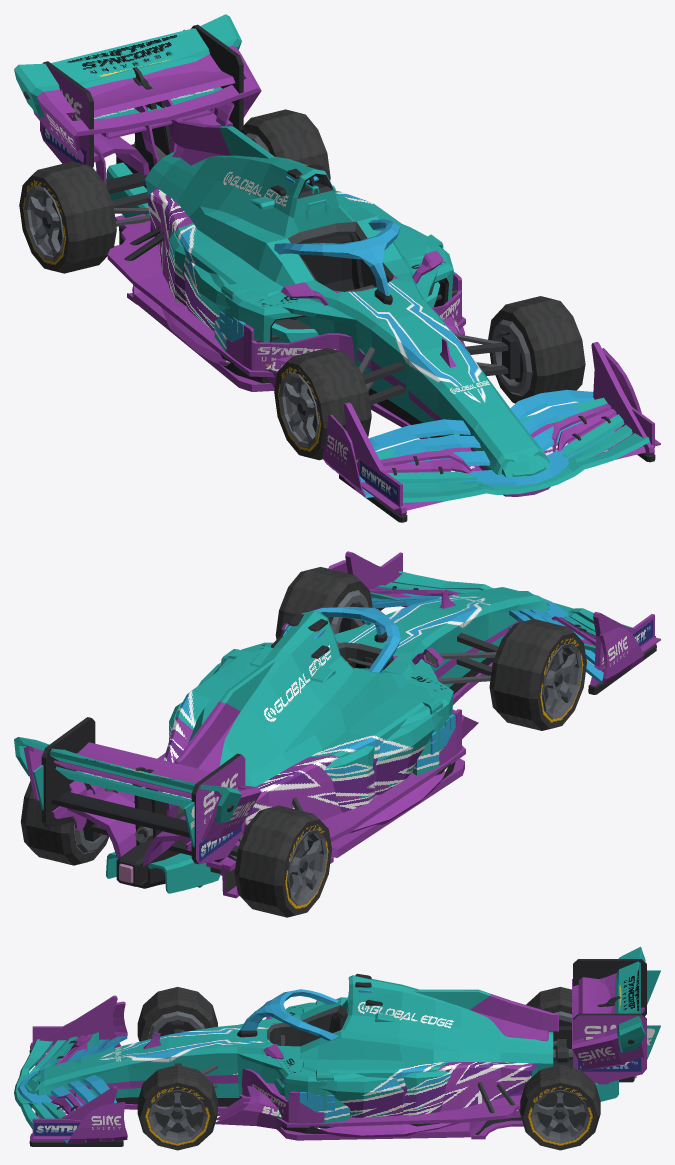
The model's file is redline_pro_openwheeler.glb.
3 renders of one model, top to bottom at view 1: azimuth 30°, elevation 25°; view 2: azimuth 150°, elevation 25°; view 3: azimuth 270°, elevation 25°, orthographic. The views are drawn at different scales.
Parts seen in each view (by area): view 1: Body, V_Front_Bumper_01, V_Front_Bumper_02, V_Side_Skirts_02, V_Spoiler_01, V_Air_Box_03, V_Spoiler_03, V_Front_Bumper_03, Wheel_RR_Stock, Wheel_FR_Stock, Wheel_FL_Stock, V_Side_Skirts_03 (+6 smaller); view 2: V_Side_Skirts_02, Body, V_Spoiler_03, V_Air_Box_03, Wheel_RR_Stock, Wheel_FR_Stock, V_Side_Skirts_03, V_Front_Bumper_01, V_Front_Bumper_02, V_Spoiler_01, V_Side_Skirts_01, V_Front_Bumper_03 (+7 smaller); view 3: V_Side_Skirts_02, Body, V_Air_Box_03, V_Front_Bumper_01, V_Front_Bumper_02, V_Side_Skirts_01, V_Side_Skirts_03, Wheel_FL_Stock, Wheel_RL_Stock, V_Front_Bumper_03, V_Spoiler_03, V_Spoiler_01 (+6 smaller).
Boxes of the visible parts, x1=… form: Body: x1=112, y1=168, x2=520, y2=405; V_Front_Bumper_01: x1=322, y1=309, x2=641, y2=497; V_Front_Bumper_02: x1=356, y1=298, x2=660, y2=510; V_Side_Skirts_02: x1=107, y1=188, x2=465, y2=377; V_Spoiler_01: x1=14, y1=14, x2=261, y2=174; V_Air_Box_03: x1=152, y1=151, x2=353, y2=237; V_Spoiler_03: x1=40, y1=24, x2=243, y2=171; V_Front_Bumper_03: x1=339, y1=317, x2=655, y2=522; Wheel_RR_Stock: x1=19, y1=161, x2=116, y2=273; Wheel_FR_Stock: x1=274, y1=348, x2=371, y2=460; Wheel_FL_Stock: x1=488, y1=296, x2=585, y2=403; V_Side_Skirts_03: x1=114, y1=214, x2=464, y2=391; V_Side_Skirts_02: x1=117, y1=649, x2=465, y2=845; Body: x1=83, y1=605, x2=498, y2=860; V_Spoiler_03: x1=41, y1=717, x2=245, y2=864; V_Air_Box_03: x1=212, y1=611, x2=353, y2=777; Wheel_RR_Stock: x1=234, y1=805, x2=331, y2=917; Wheel_FR_Stock: x1=489, y1=619, x2=586, y2=730; V_Side_Skirts_03: x1=169, y1=642, x2=464, y2=898; V_Front_Bumper_01: x1=328, y1=560, x2=644, y2=684; V_Front_Bumper_02: x1=361, y1=552, x2=660, y2=652; V_Spoiler_01: x1=14, y1=737, x2=261, y2=866; V_Side_Skirts_01: x1=198, y1=644, x2=478, y2=875; V_Front_Bumper_03: x1=345, y1=551, x2=656, y2=704; V_Side_Skirts_02: x1=239, y1=1000, x2=532, y2=1127; Body: x1=171, y1=990, x2=571, y2=1094; V_Air_Box_03: x1=342, y1=975, x2=553, y2=1053; V_Front_Bumper_01: x1=17, y1=1001, x2=238, y2=1143; V_Front_Bumper_02: x1=14, y1=1025, x2=237, y2=1139; V_Side_Skirts_01: x1=215, y1=1006, x2=537, y2=1137; V_Side_Skirts_03: x1=239, y1=1002, x2=523, y2=1140; Wheel_FL_Stock: x1=137, y1=1065, x2=217, y2=1150; Wheel_RL_Stock: x1=520, y1=1065, x2=600, y2=1150; V_Front_Bumper_03: x1=24, y1=995, x2=239, y2=1146; V_Spoiler_03: x1=573, y1=959, x2=646, y2=1084; V_Spoiler_01: x1=572, y1=946, x2=645, y2=1070.
Size of the model in its own units: 1.72 by 0.9973 by 4.53.
2 materials, 2 textured.
